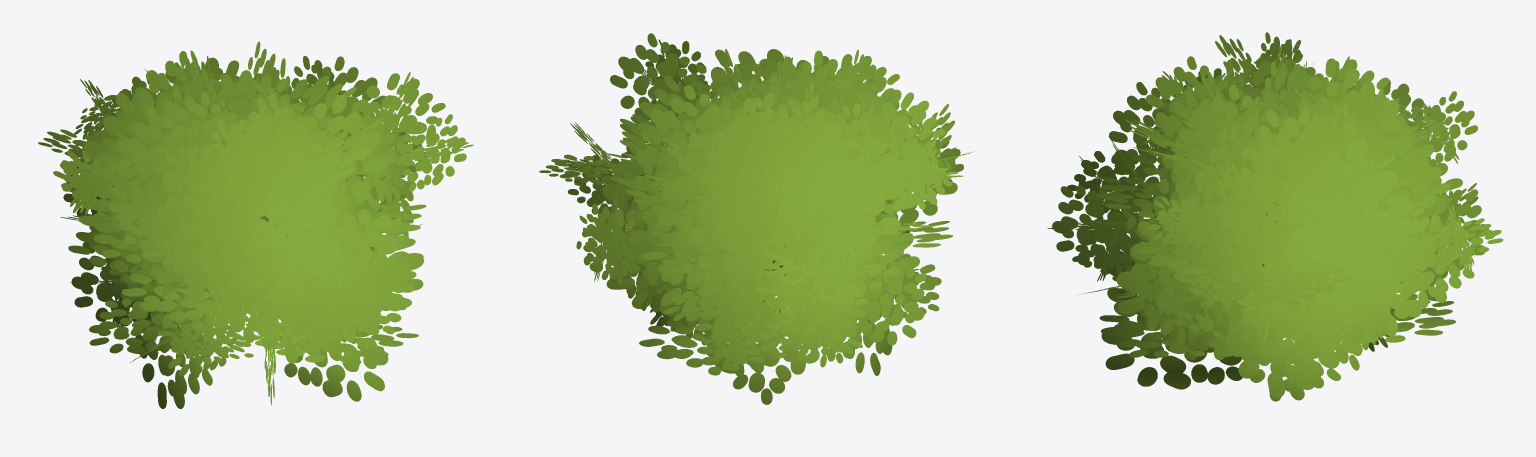
The model's file is bush_common_50.gltf.
3 renders of one model, left to right at view 1: azimuth 30°, elevation 25°; view 2: azimuth 150°, elevation 25°; view 3: azimuth 270°, elevation 25°, orthographic.
Parts seen in each view (by area): view 1: bush_common_50; view 2: bush_common_50; view 3: bush_common_50.
Part boxes in pixels (x1=…): bush_common_50: x1=38, y1=41, x2=473, y2=408; bush_common_50: x1=539, y1=33, x2=976, y2=404; bush_common_50: x1=1047, y1=32, x2=1503, y2=401.
Bounding box in the file's own units: 0.9202 × 0.7681 × 0.9439.
1 material, 1 textured.
